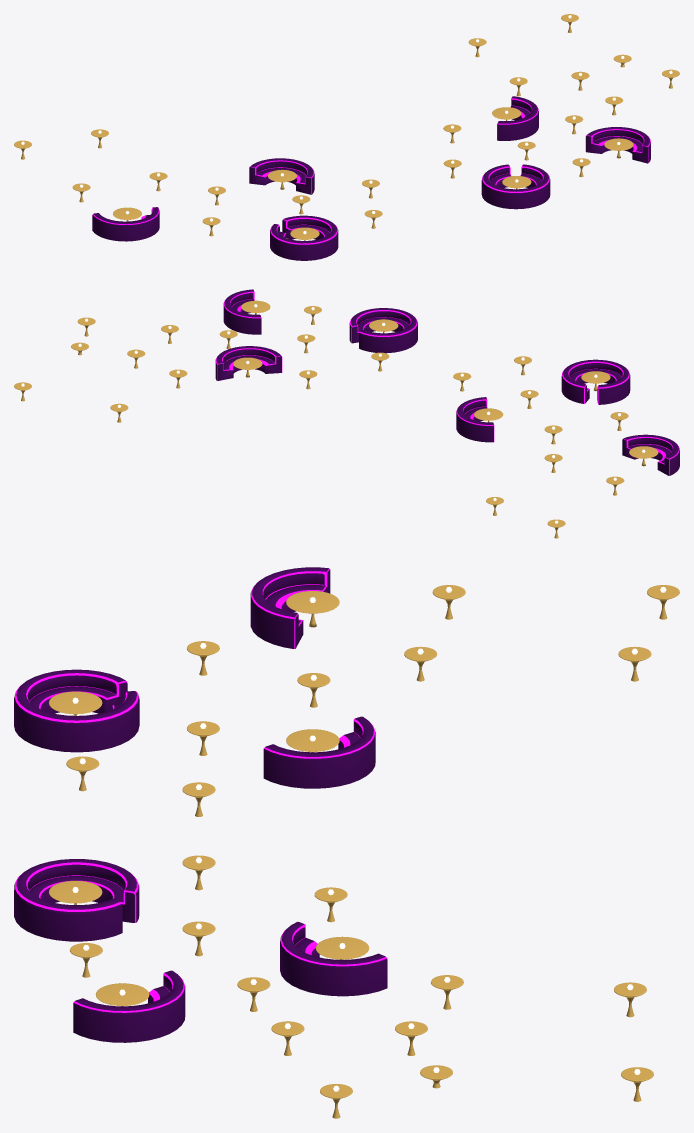
File: booths.gltf
The picture shows the model from 3 angles, top to bottom: view 1: azimuth 30°, elevation 25°; view 2: azimuth 150°, elevation 25°; view 3: azimuth 270°, elevation 25°; orthographic projection. The views are drawn at different scales.
Parts seen in each view (by area): view 1: Booths, Bar Tops; view 2: Booths, Bar Tops; view 3: Booths, Bar Tops.
Part boxes in pixels (x1=…): Booths: x1=92, y1=96, x2=650, y2=260; Bar Tops: x1=14, y1=14, x2=679, y2=236; Booths: x1=215, y1=289, x2=679, y2=475; Bar Tops: x1=14, y1=306, x2=628, y2=538; Booths: x1=14, y1=567, x2=387, y2=1042; Bar Tops: x1=66, y1=585, x2=679, y2=1118.
Size of what is drawn, in the model's own units: 52.47 by 1.46 by 28.06.
